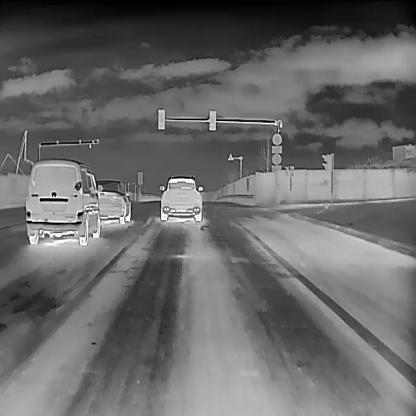car: (25, 156, 103, 245), (158, 173, 203, 221), (94, 178, 131, 223)
